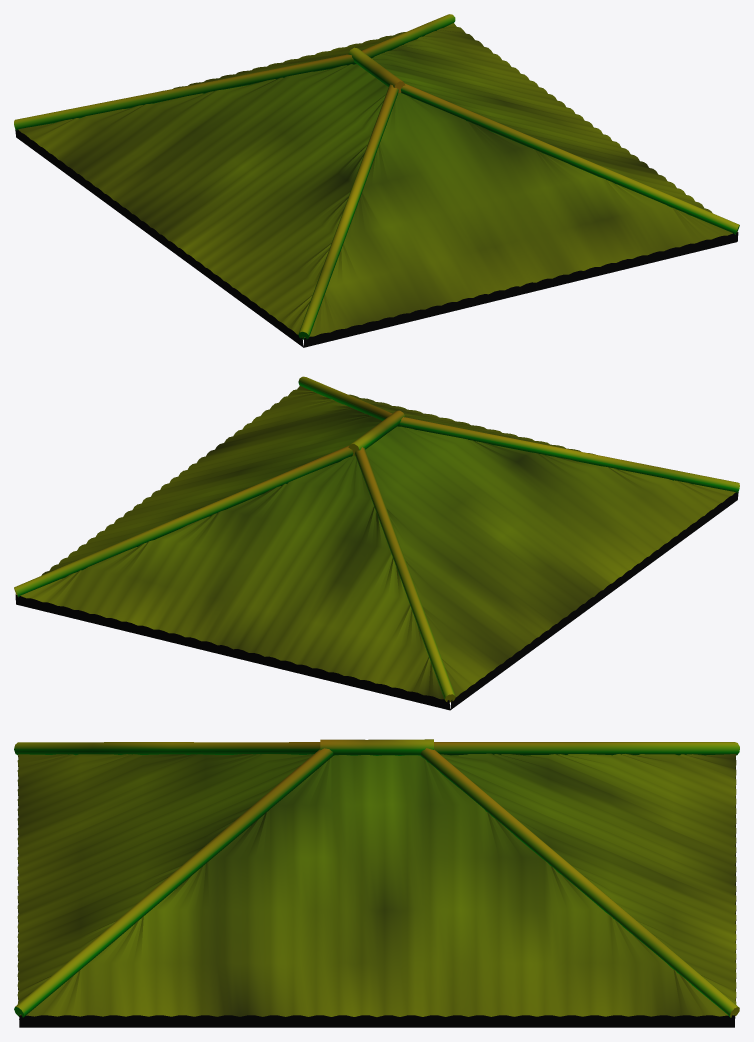
The model's file is roof_tile_hip.glb.
3 renders of one model, top to bottom at view 1: azimuth 30°, elevation 25°; view 2: azimuth 150°, elevation 25°; view 3: azimuth 270°, elevation 25°, orthographic. The views are drawn at different scales.
Parts seen in each view (by area): view 1: roof_tile_hip; view 2: roof_tile_hip; view 3: roof_tile_hip.
Boxes of the visible parts, box(x1,y1,x2,y2) form: roof_tile_hip: box(14, 14, 739, 347); roof_tile_hip: box(14, 376, 739, 710); roof_tile_hip: box(14, 739, 739, 1027).
Size of what is drawn, in the model's own units: 6.91 by 1.88 by 7.91.
